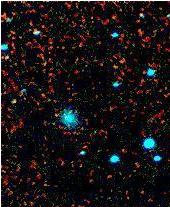star: (0, 86, 29, 116)
